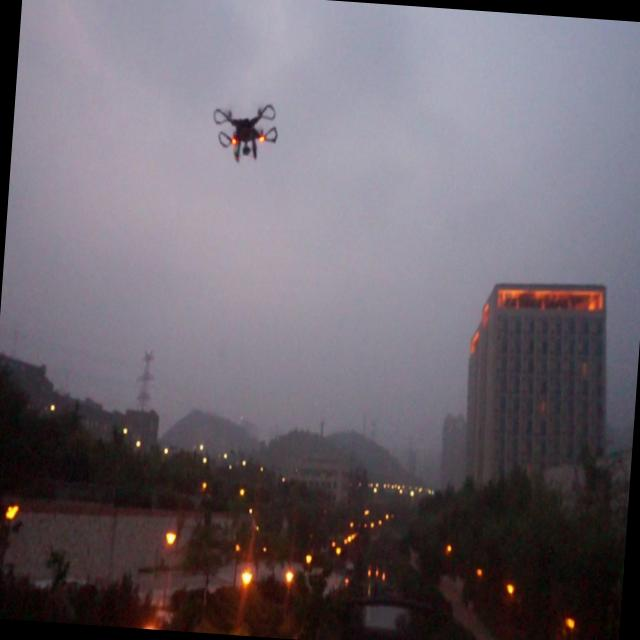drone: (210, 96, 280, 168)
